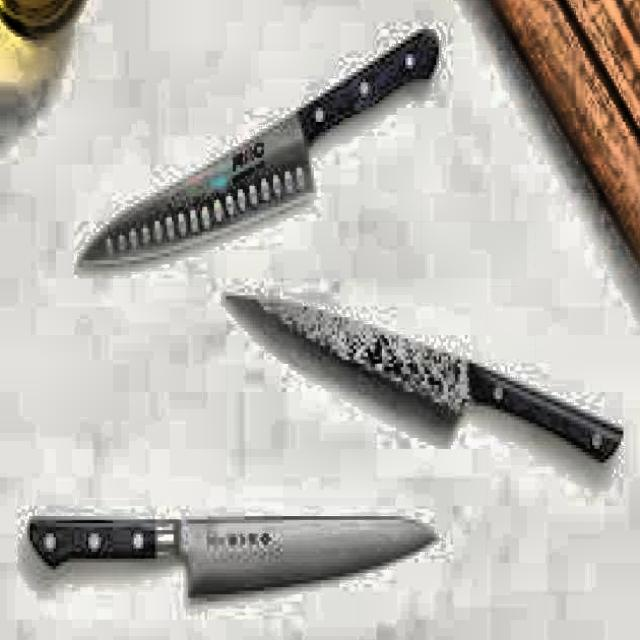knife: (76, 28, 445, 280), (216, 291, 630, 477), (25, 503, 442, 604)
